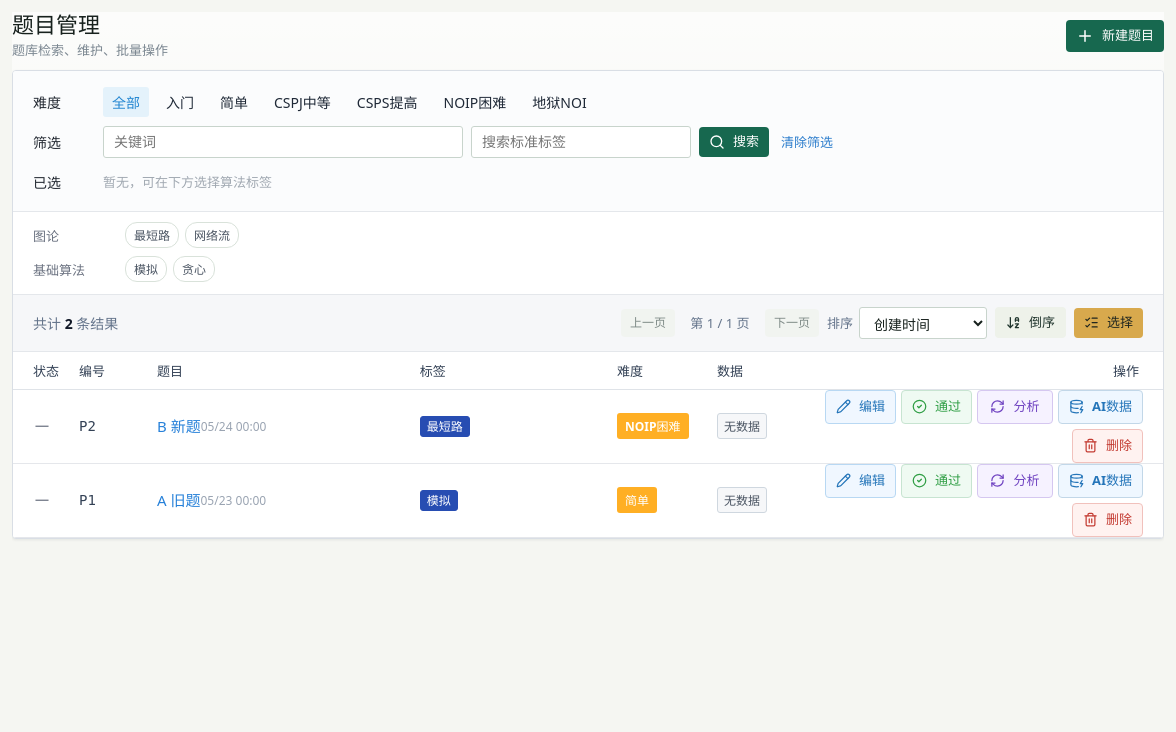
Test: queues selected problems for reanalysis
Click the button "选择" at x=1108, y=323, box [1074,308,1143,338]
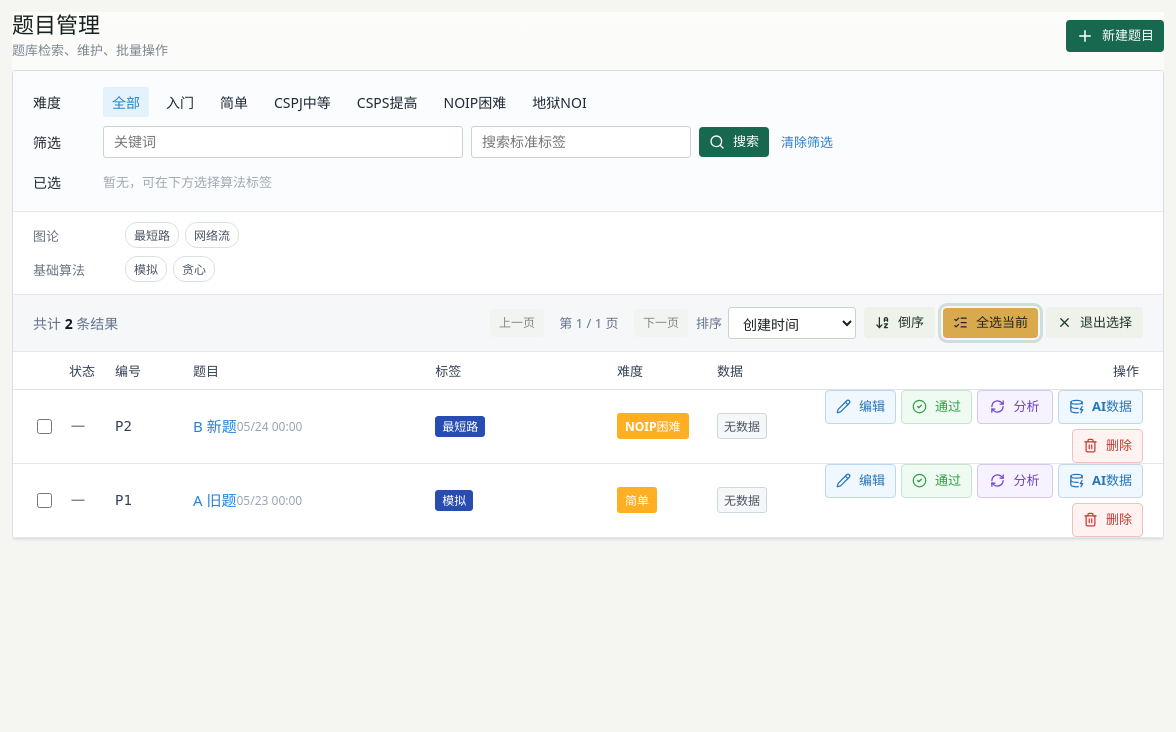
Click the checkbox named "A 旧题" at x=44, y=500, box [37,493,52,508]
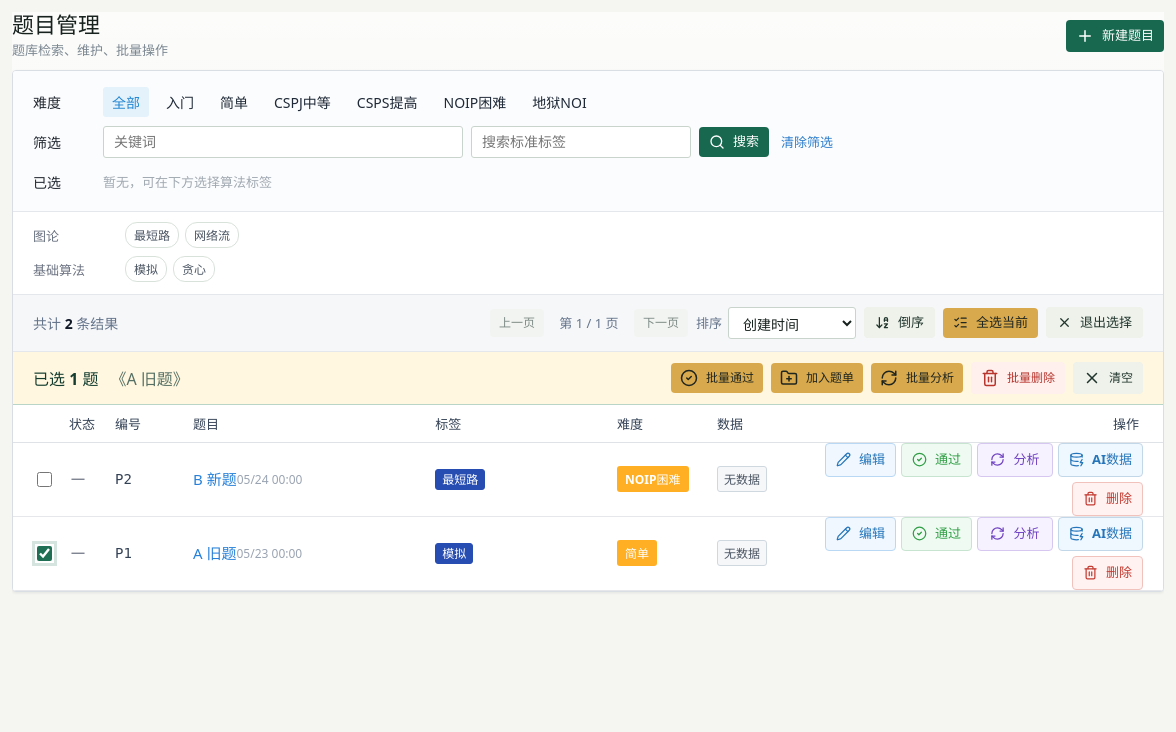
Click the checkbox named "B 新题" at x=44, y=479, box [37,472,52,487]
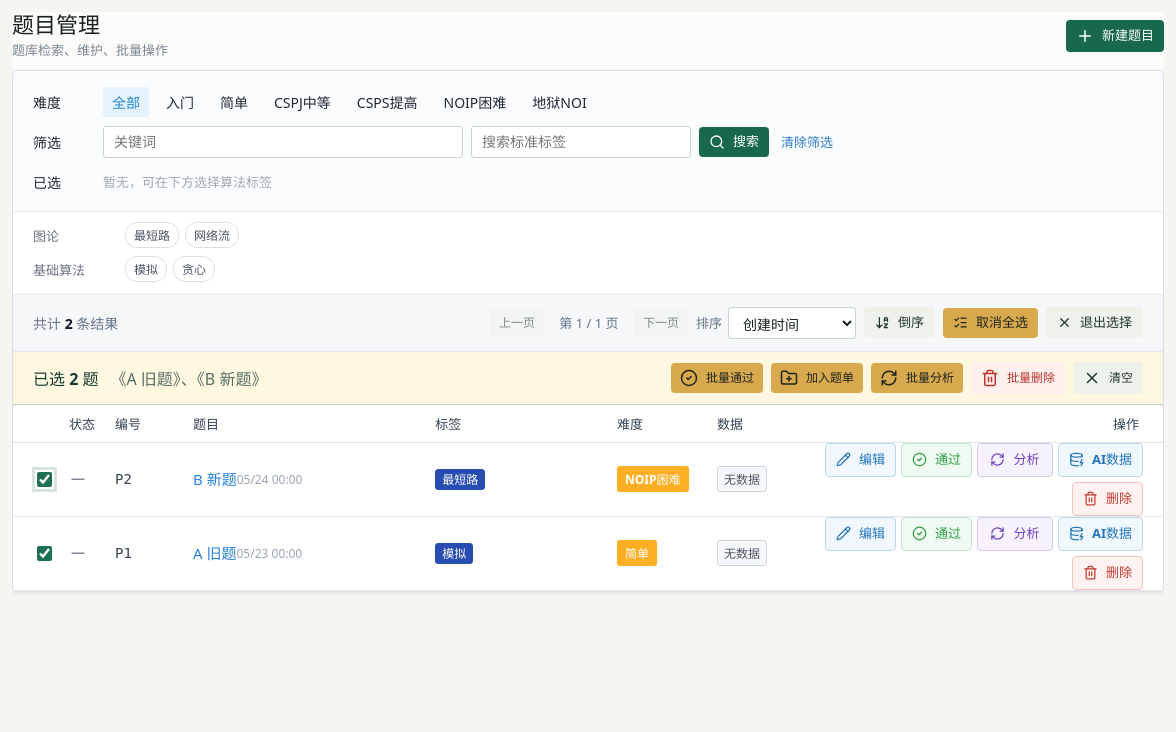
Click the button "批量分析" at x=917, y=378, box [871,363,963,393]
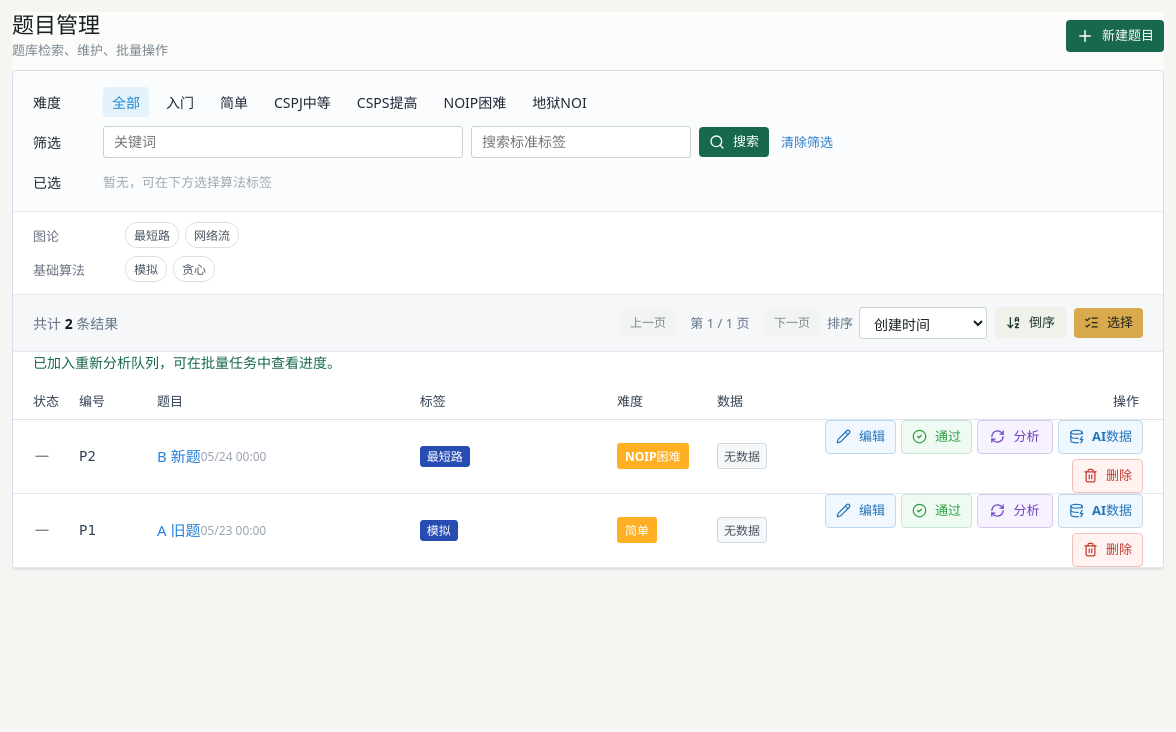
Expected: the text "已加入重新分析队列，可在批量任务中查看进度。" is shown, [33,353,341,372]
